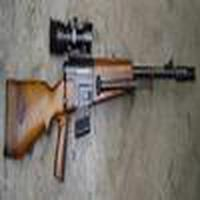gun: (6, 16, 193, 155)
